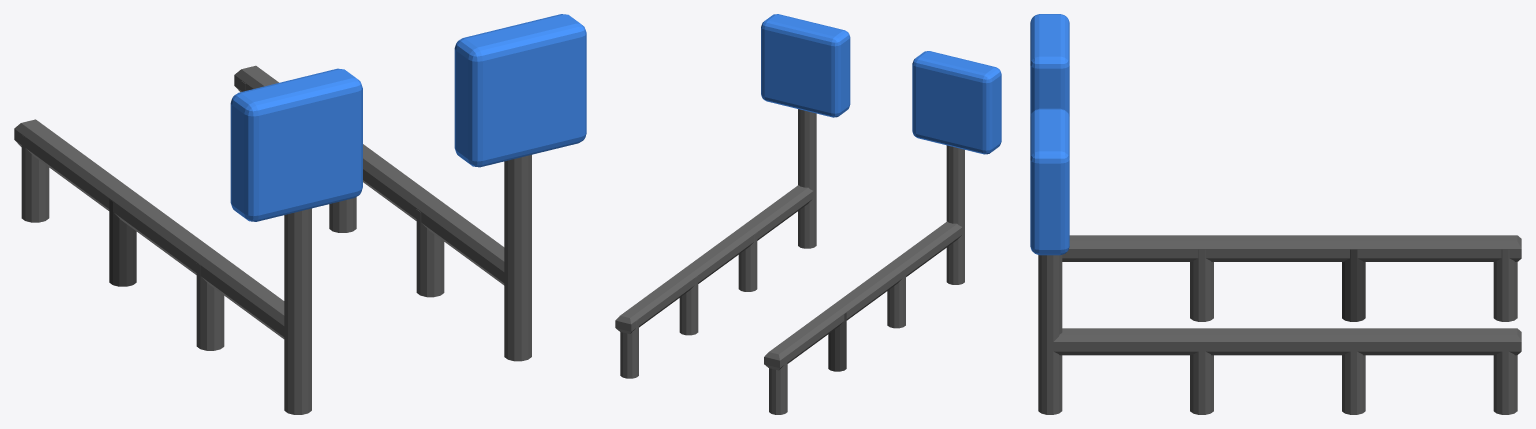
The model's file is SlotNeutre.fbx.
3 renders of one model, left to right at view 1: azimuth 30°, elevation 25°; view 2: azimuth 150°, elevation 25°; view 3: azimuth 270°, elevation 25°, orthographic. The views are drawn at different scales.
Parts seen in each view (by area): view 1: Barre, Panneau__1_, Panneau; view 2: Barre, Panneau, Panneau__1_; view 3: Barre, Panneau, Panneau__1_.
Boxes of the visible parts, x1,y1,x2,y2 form: Barre: (14, 65, 531, 414); Panneau__1_: (230, 68, 362, 221); Panneau: (454, 14, 586, 167); Barre: (615, 109, 964, 414); Panneau: (761, 14, 850, 117); Panneau__1_: (912, 51, 1001, 154); Barre: (1038, 235, 1521, 414); Panneau: (1030, 108, 1069, 255); Panneau__1_: (1030, 14, 1069, 116).
Size of the model in its own units: 450 by 408 by 648.
